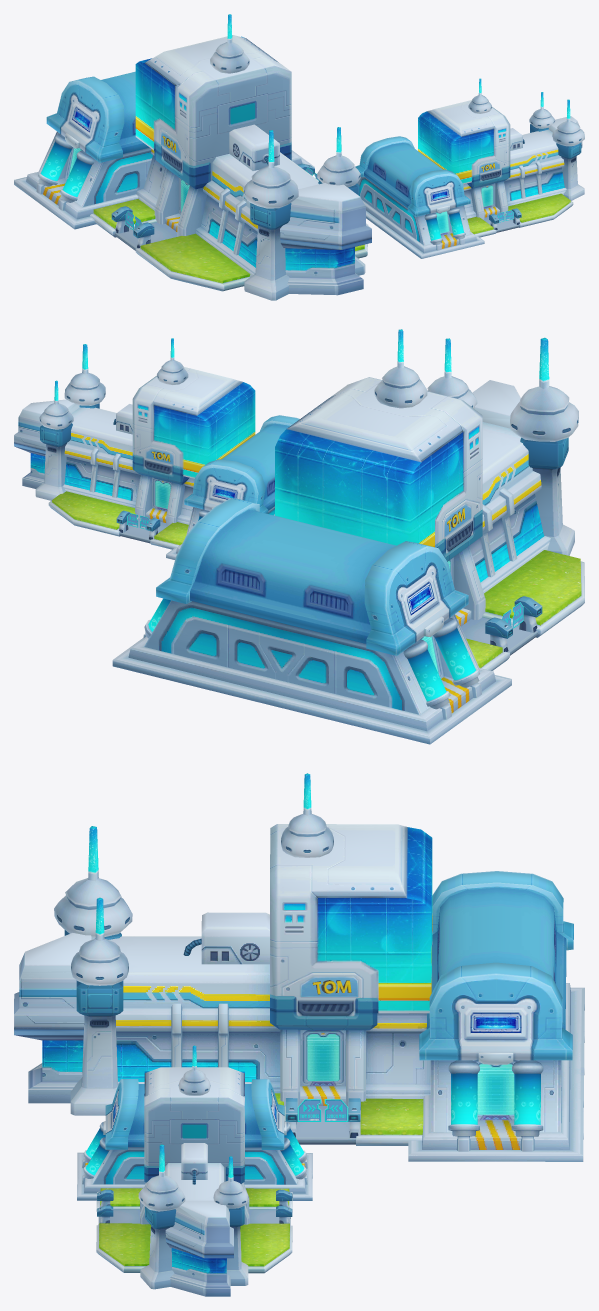
File: buildingC.glb
3 renders of one model, top to bottom at view 1: azimuth 30°, elevation 25°; view 2: azimuth 150°, elevation 25°; view 3: azimuth 270°, elevation 25°, orthographic. The views are drawn at different scales.
Parts seen in each view (by area): view 1: xszy_jianzhu_01_xszy_jianzhu_01_0; view 2: xszy_jianzhu_01_xszy_jianzhu_01_0; view 3: xszy_jianzhu_01_xszy_jianzhu_01_0.
Part boxes in pixels (x1,y1,x2,y2): xszy_jianzhu_01_xszy_jianzhu_01_0: (14, 14, 584, 300); xszy_jianzhu_01_xszy_jianzhu_01_0: (14, 329, 584, 744); xszy_jianzhu_01_xszy_jianzhu_01_0: (14, 773, 584, 1296).
Size of the model in its own units: 40.4 by 18.82 by 31.99.
Materials: 1 (1 with a texture image).
